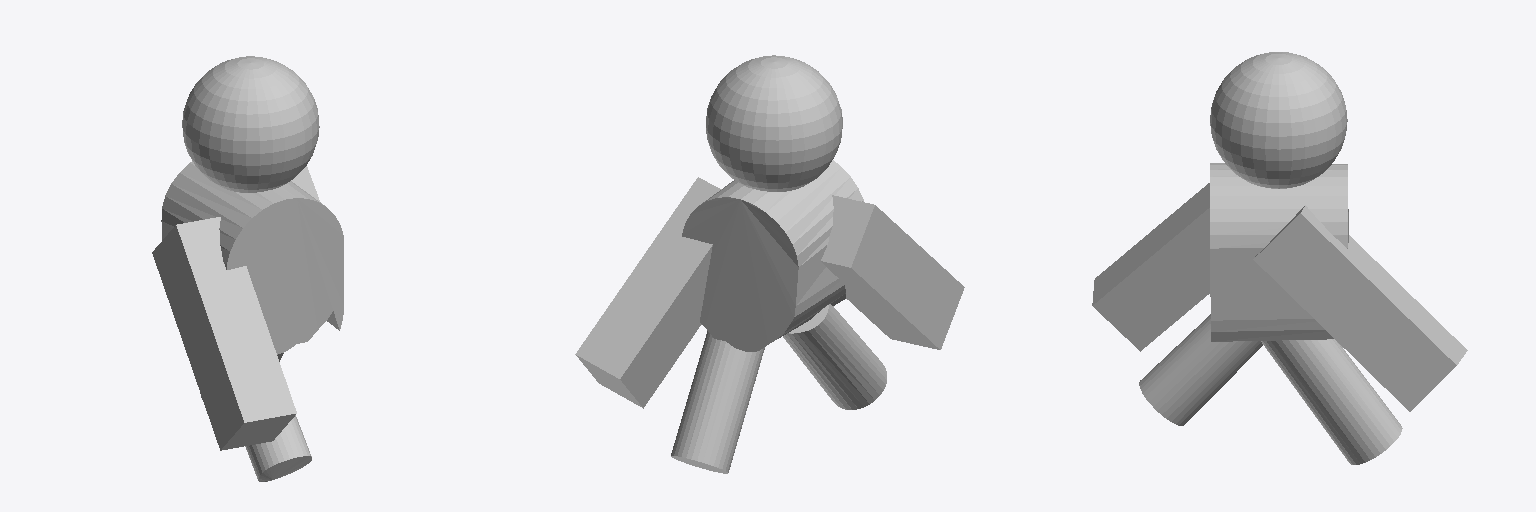
The model's file is Figurine117.obj.
The picture shows the model from 3 angles: view 1: azimuth 30°, elevation 25°; view 2: azimuth 150°, elevation 25°; view 3: azimuth 270°, elevation 25°; orthographic projection.
Parts seen in each view (by area): view 1: Cylinder; view 2: Cylinder; view 3: Cylinder.
Boxes of the visible parts, x1,y1,x2,y2 form: Cylinder: [152, 56, 343, 481]; Cylinder: [575, 55, 964, 473]; Cylinder: [1092, 52, 1467, 464].
Bounding box in the file's own units: 3.49 × 6.25 × 5.45.